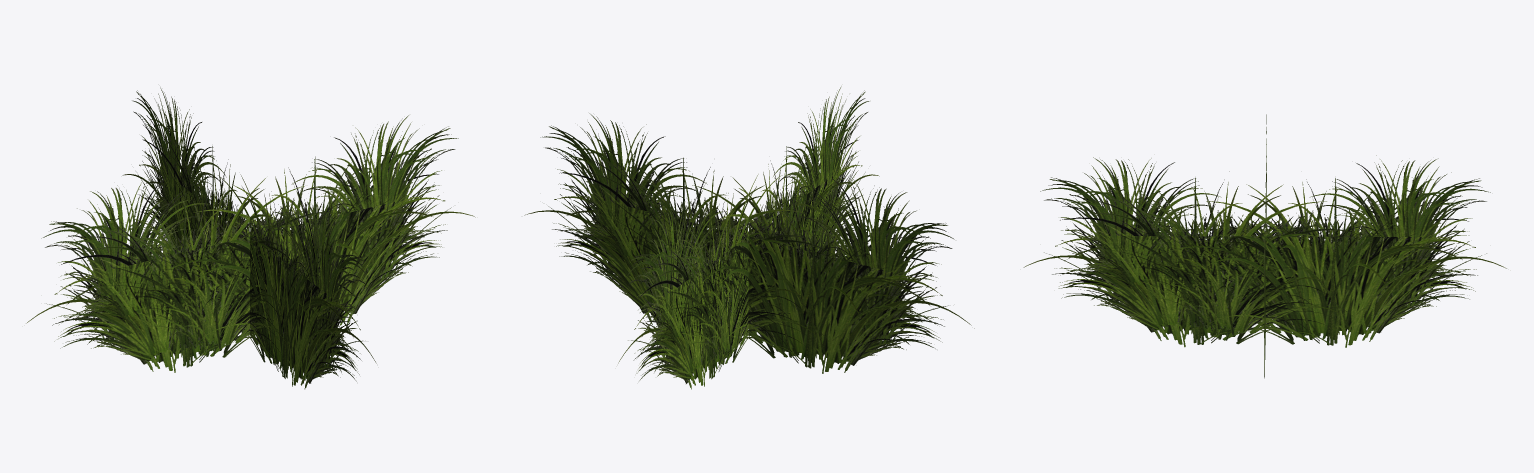
The model's file is grass4.fbx.
3 renders of one model, left to right at view 1: azimuth 30°, elevation 25°; view 2: azimuth 150°, elevation 25°; view 3: azimuth 270°, elevation 25°, orthographic. The views are drawn at different scales.
Parts seen in each view (by area): view 1: grass4; view 2: grass4; view 3: grass4.
Boxes of the visible parts, x1=… form: grass4: x1=26, y1=87, x2=475, y2=389; grass4: x1=524, y1=86, x2=974, y2=389; grass4: x1=1023, y1=114, x2=1506, y2=378.
Size of the model in its own units: 107 by 53.88 by 107.
Materials: 1 (1 with a texture image).
